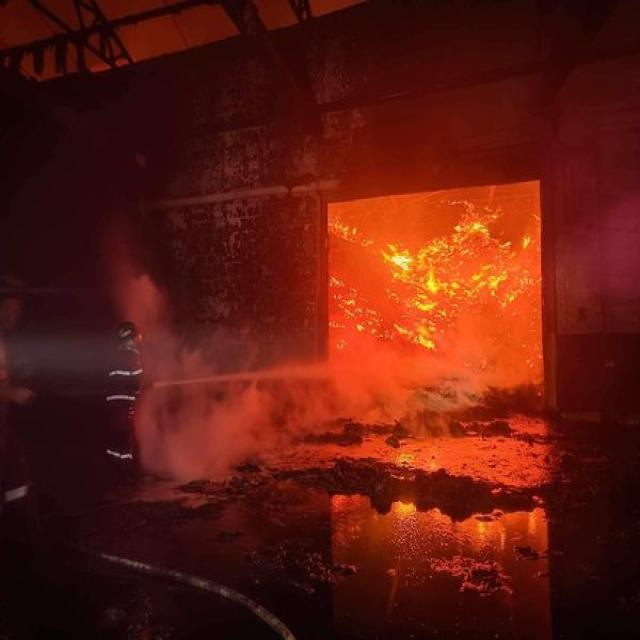Fire: (336, 205, 536, 382)
